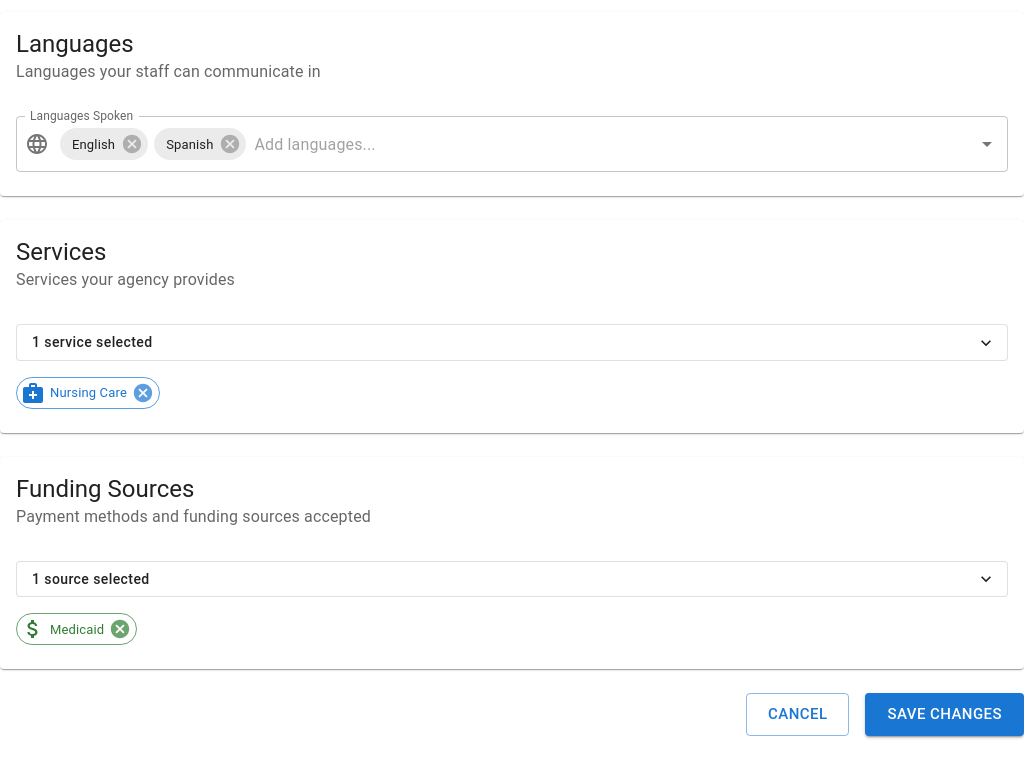
Edit Agency Page - BVA Tests › Selection Count Boundaries › Services Selection Count › 0 services - shows 'Select services' placeholder
(page scrolled)
Click the 3rd icon with test id "CancelIcon" at (143, 393), box [132,382,154,404]
(page scrolled)
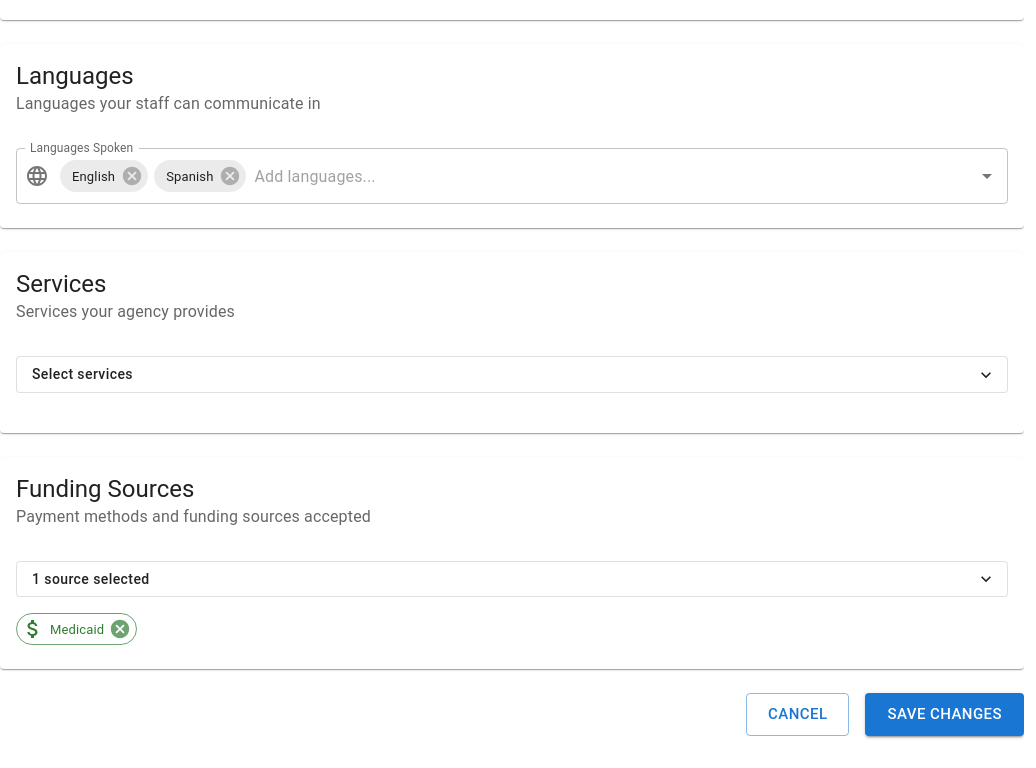
Result: the text "Select services" is shown at [32,362,133,387]
